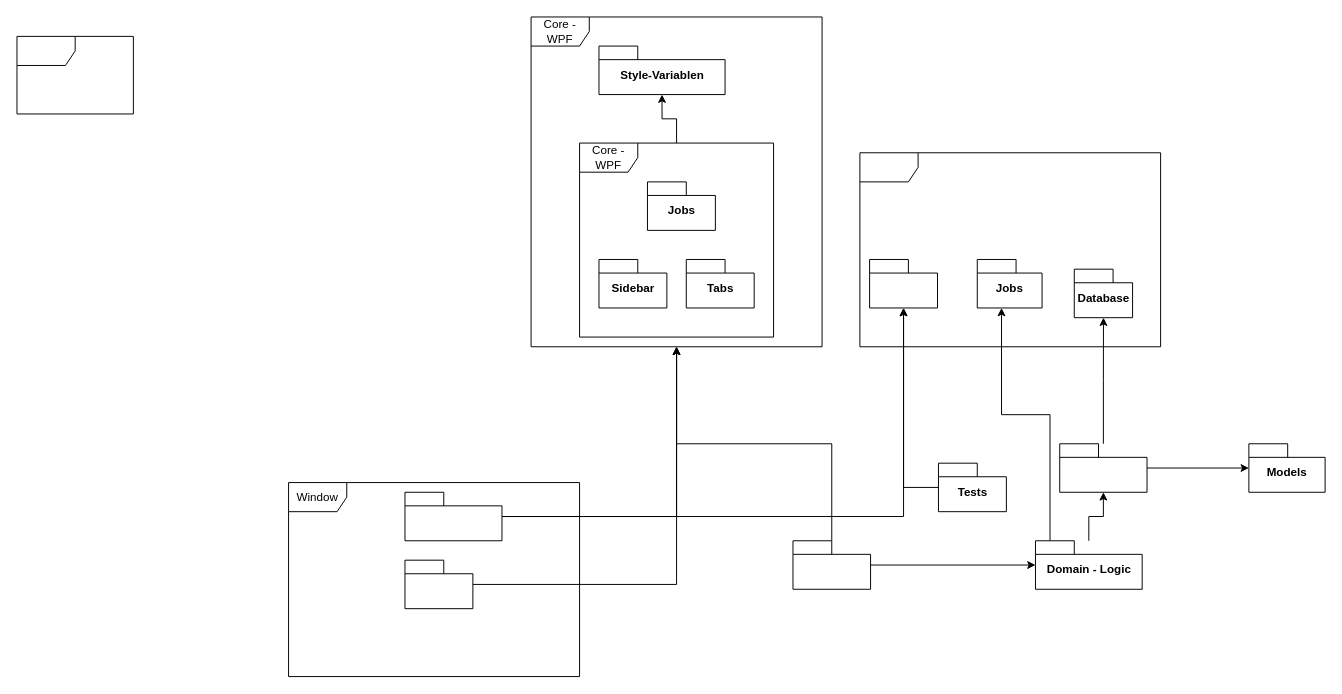
Image size: 1342x694. Some labels were removed from this diagram. Here are the shapes that lost their labels. From the top down, the box of each, then its label:
(859, 152, 1161, 347): Core - Code
(869, 259, 938, 308): DI Core
(1059, 443, 1147, 492): Repositories
(404, 491, 502, 541): AppWindow
(404, 559, 473, 609): Launcher
(792, 540, 871, 589): Domain - UI
